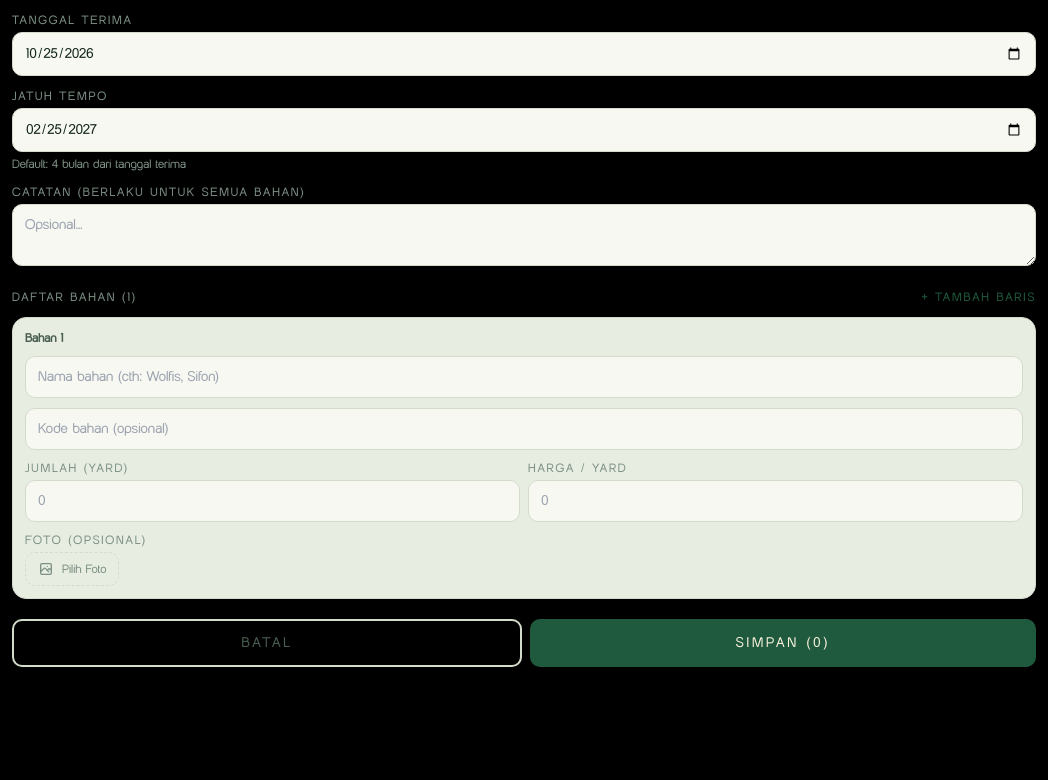
PembelianBulkForm › shows validation error when no valid rows on submit
What coordinates should you click on to do the following:
click the button "Simpan (0)"
I would click on:
 (783, 643)
Its box is [530,619,1036,667].
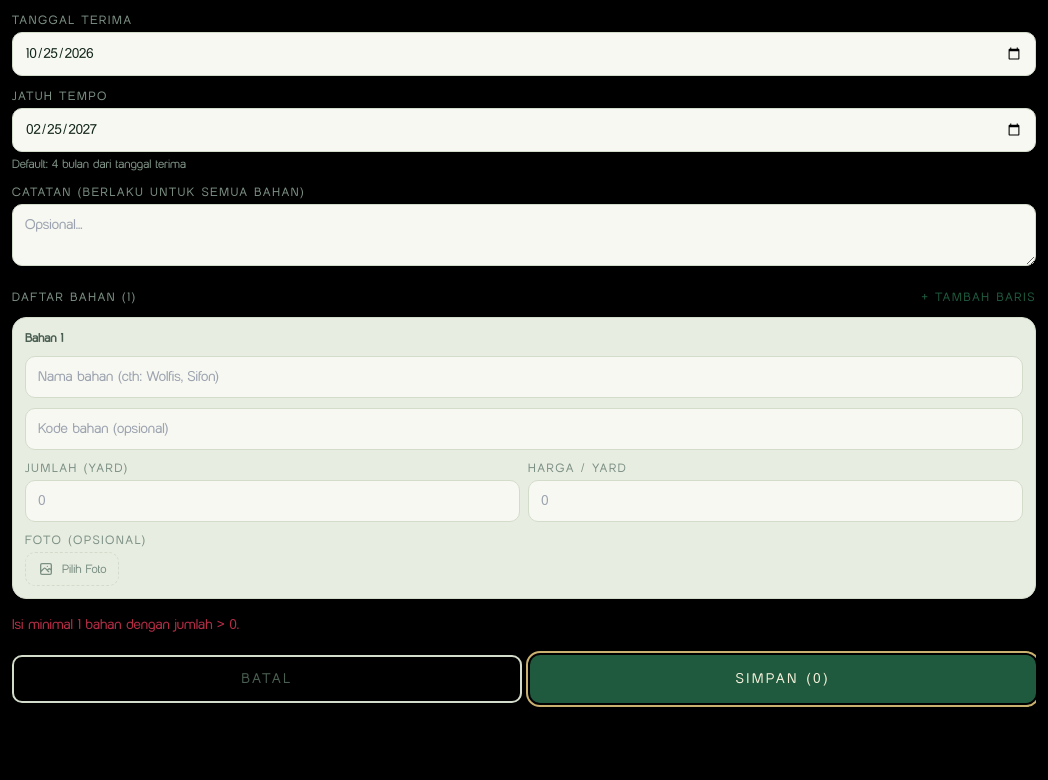
Expected: the text "Isi minimal 1 bahan dengan jumlah > 0." is shown, [12,616,239,633]
